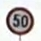limite 50: (4, 5, 35, 35)
